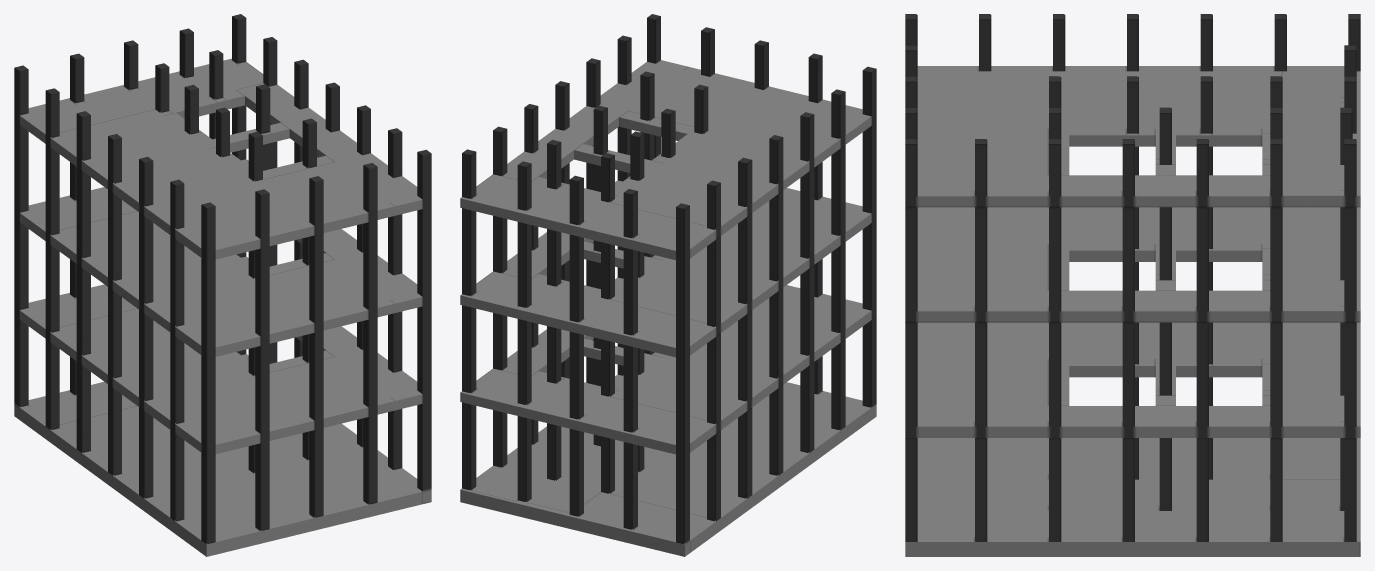
File: plac_bud_3.dae
3 renders of one model, left to right at view 1: azimuth 30°, elevation 25°; view 2: azimuth 150°, elevation 25°; view 3: azimuth 270°, elevation 25°, orthographic. The views are drawn at different scales.
Visible parts, largest first — view 1: Content; view 2: Content; view 3: Content.
Part boxes in pixels (left/top/right/bottom): Content: left=14, top=14, right=431, bottom=556; Content: left=460, top=14, right=876, bottom=556; Content: left=905, top=14, right=1360, bottom=556.
Size of the model in its own units: 75 by 111 by 111.
Materials: 1 (1 with a texture image).
